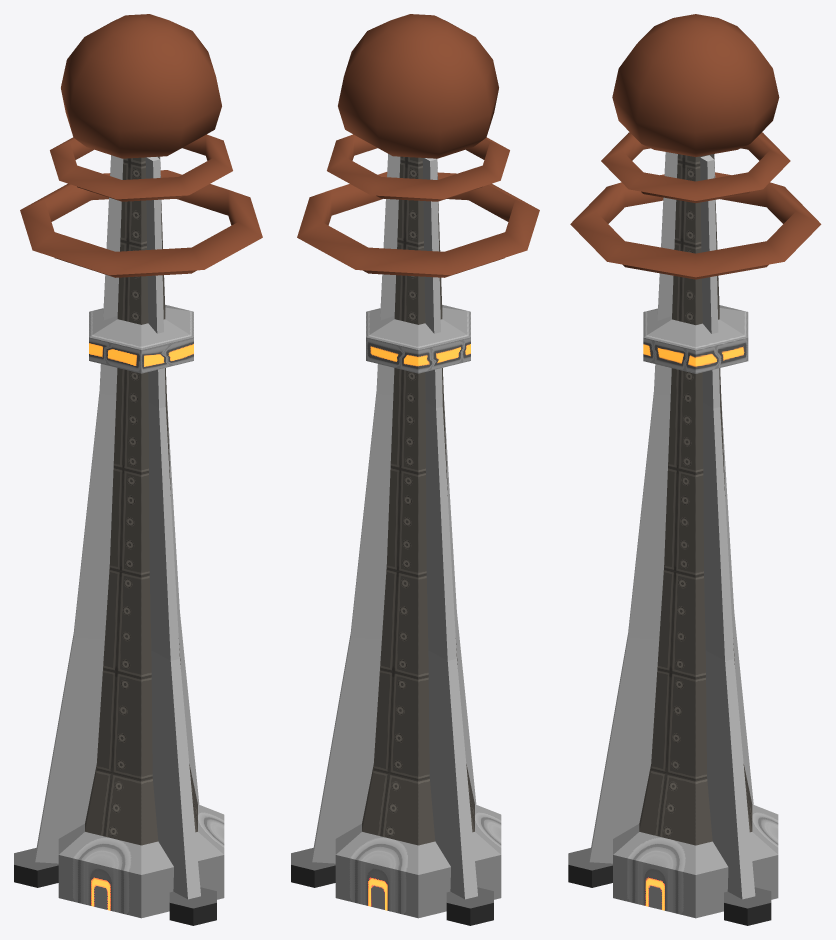
Rendered from electric-pole-1.glb.
3 renders of one model, left to right at view 1: azimuth 30°, elevation 25°; view 2: azimuth 150°, elevation 25°; view 3: azimuth 270°, elevation 25°, orthographic.
Visible parts, largest first — view 1: Torus.001; view 2: Torus.001; view 3: Torus.001.
Boxes of the visible parts, box(x1,y1,x2,y2) form: Torus.001: box(14, 14, 262, 925); Torus.001: box(291, 14, 539, 925); Torus.001: box(568, 14, 821, 925).
Size of the model in its own units: 10.54 by 39.59 by 10.61.
1 material, 1 textured.
